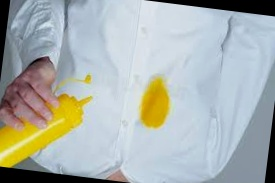mustard: (142, 72, 176, 131)
